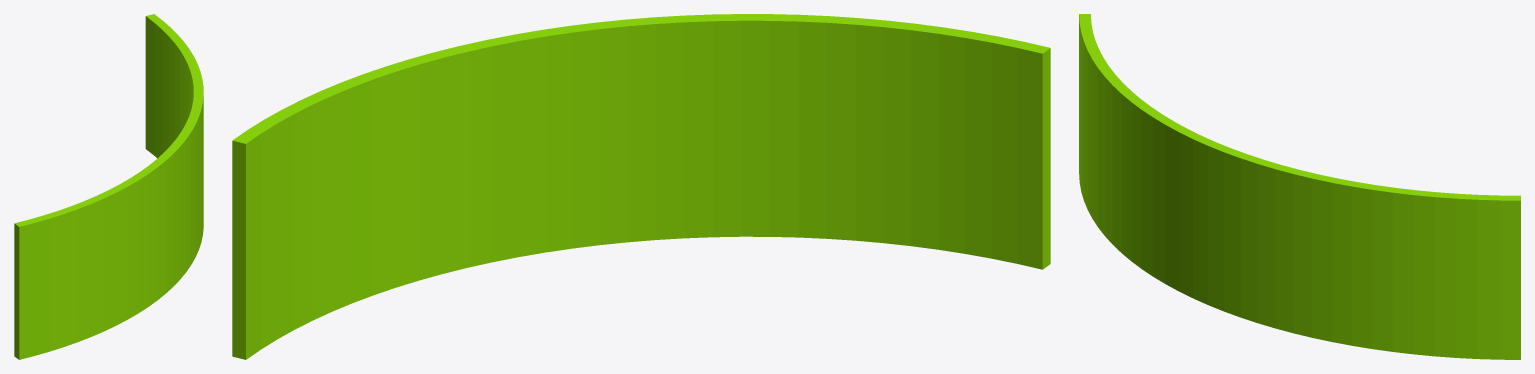
Rendered from Wall_02_Half_Bend_03.fbx.
3 views of the same model, side by side, from view 1: azimuth 30°, elevation 25°; view 2: azimuth 150°, elevation 25°; view 3: azimuth 270°, elevation 25° (orthographic). The views are drawn at different scales.
Visible parts, largest first — view 1: Wall_02_Half_Bend_03; view 2: Wall_02_Half_Bend_03; view 3: Wall_02_Half_Bend_03.
Part boxes in pixels (x1,y1,x2,y2): Wall_02_Half_Bend_03: (14, 14, 203, 359); Wall_02_Half_Bend_03: (232, 14, 1050, 359); Wall_02_Half_Bend_03: (1079, 14, 1520, 359).
Size of the model in its own units: 832 by 331 by 832.
